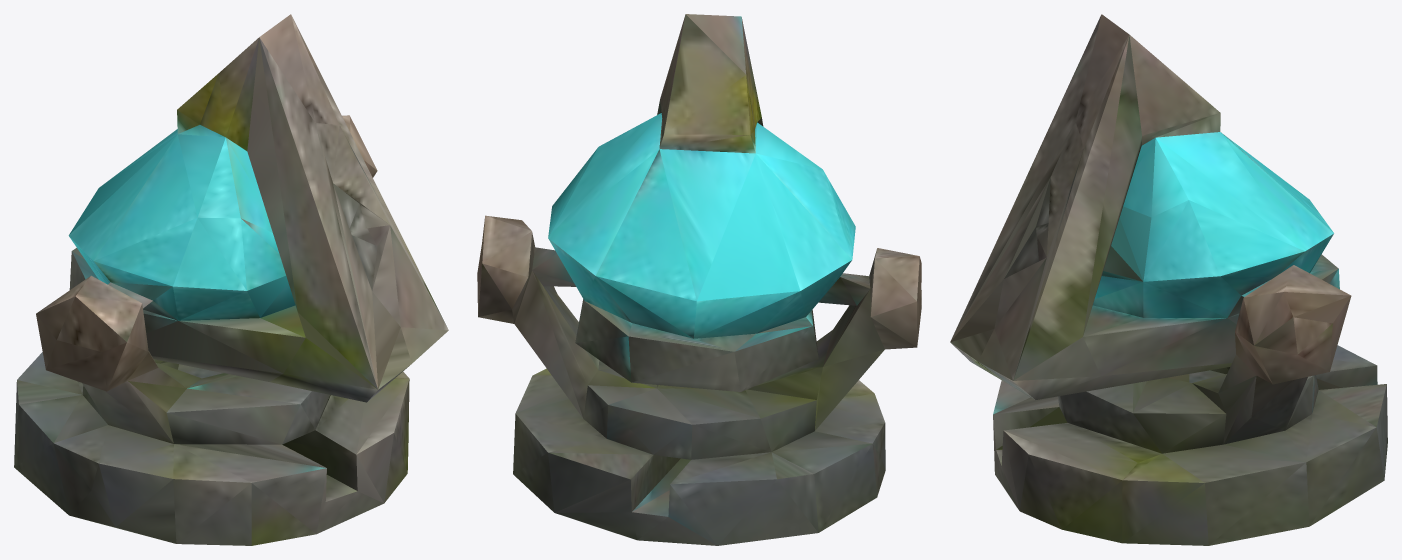
The model's file is prisma_orientable_400.glb.
The picture shows the model from 3 angles, left to right: view 1: azimuth 30°, elevation 25°; view 2: azimuth 150°, elevation 25°; view 3: azimuth 270°, elevation 25°; orthographic projection. The views are drawn at different scales.
Visible parts, largest first — view 1: prisma_orientable_malla; view 2: prisma_orientable_malla; view 3: prisma_orientable_malla.
Boxes of the visible parts, left/top/right/bottom form: prisma_orientable_malla: left=14, top=14, right=448, bottom=545; prisma_orientable_malla: left=477, top=14, right=921, bottom=545; prisma_orientable_malla: left=950, top=14, right=1387, bottom=545.
Size of the model in its own units: 0.3008 by 0.3315 by 0.2856.
1 material, 1 textured.
